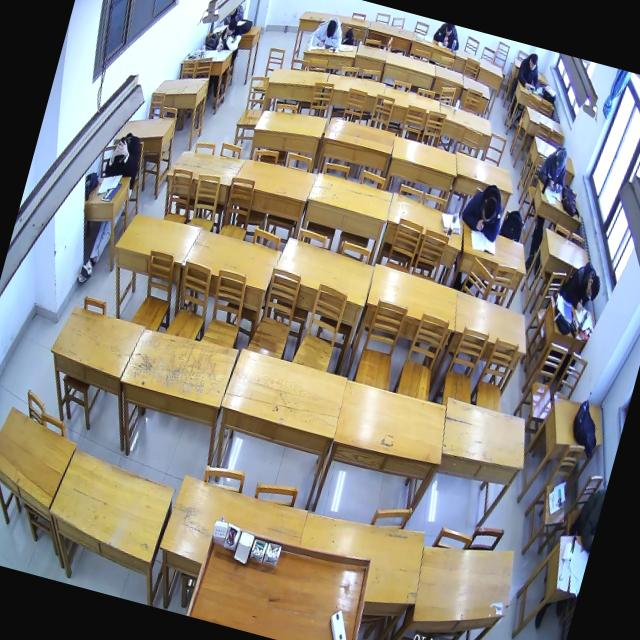bow: (455, 177, 514, 245), (306, 9, 348, 54), (429, 20, 464, 51)
down: (110, 134, 133, 166), (478, 194, 500, 226), (582, 272, 604, 304), (552, 143, 572, 174), (322, 17, 339, 41), (222, 16, 238, 38), (525, 52, 540, 73), (546, 178, 560, 194), (442, 23, 453, 37)
sit: (554, 254, 606, 320), (101, 128, 148, 188), (534, 140, 574, 197), (512, 50, 547, 96), (214, 14, 246, 57)
